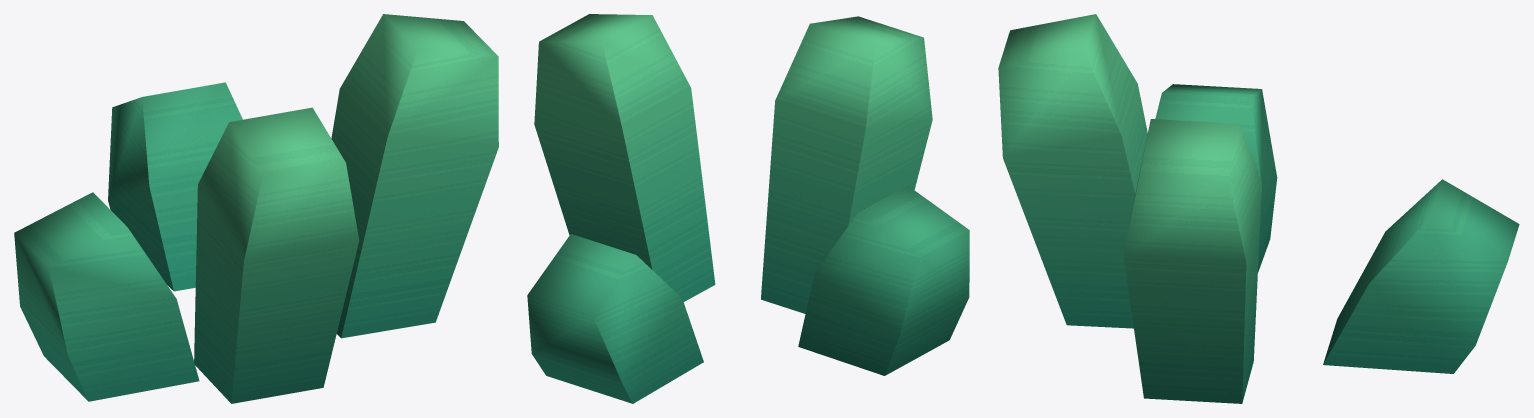
File: grass.005_lev2.glb
The picture shows the model from 3 angles, left to right: view 1: azimuth 30°, elevation 25°; view 2: azimuth 150°, elevation 25°; view 3: azimuth 270°, elevation 25°; orthographic projection. The views are drawn at different scales.
Parts seen in each view (by area): view 1: grass.005_lev2; view 2: grass.005_lev2; view 3: grass.005_lev2.
Part boxes in pixels (x1,y1,x2,y2): grass.005_lev2: (14,14,498,403); grass.005_lev2: (527,14,969,403); grass.005_lev2: (998,14,1519,403).
Size of the model in its own units: 0.5308 by 0.3139 by 0.5439.
1 material, 1 textured.
